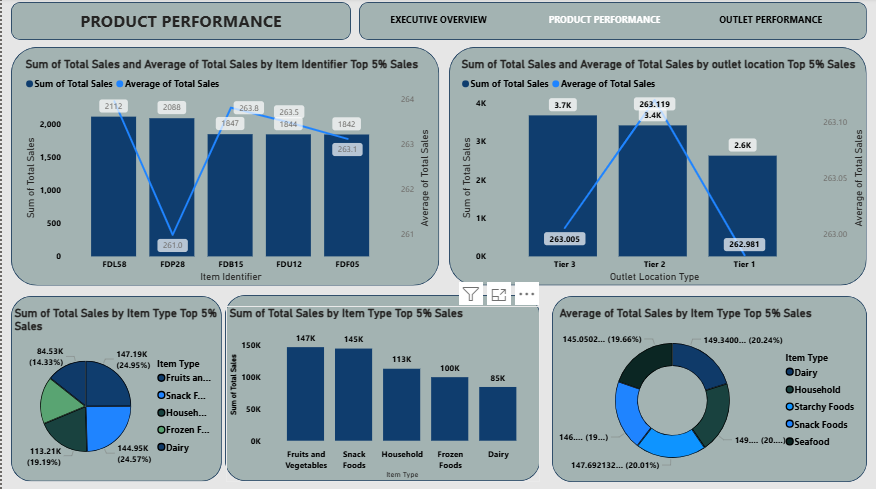

This screenshot's page, from the dashboard's own definition file:
{"tool":"powerbi","page":{"name":"PRODUCT PERFORMANCE","canvas":[1280,720],"ordinal":1},"visuals":[{"type":"shape","box":[13.2,5.9,497.6,55.6],"z":0},{"type":"shape","box":[522.4,5.9,743.4,55.6],"z":1000},{"type":"shape","box":[12.9,435.7,308.6,271.4],"z":2000},{"type":"shape","box":[326.3,434.6,461,272.2],"z":3000},{"type":"shape","box":[804.9,436.1,461,272.2],"z":4000},{"type":"shape","box":[653.9,72.1,611.3,349.1],"z":5000},{"type":"shape","box":[13.4,72.2,626.6,349.4],"z":6000},{"type":"columnChart","title":"Sum of Total Sales by Item Type Top 5% Sales","fields":{"Category":["smart_bazaar.Item Type"],"Y":["Sum(smart_bazaar.Total Sales)"]},"box":[327.1,451.4,460,257.1],"z":7000},{"type":"donutChart","title":"Average of Total Sales by Item Type Top 5% Sales","fields":{"Category":["smart_bazaar.Item Type"],"Y":["Avg(smart_bazaar.Total Sales)"]},"box":[810.7,450.7,450.7,257.6],"z":8000},{"type":"lineStackedColumnComboChart","title":"Sum of Total Sales and Average of Total Sales by outlet location Top 5% Sales","fields":{"Y":["Sum(smart_bazaar.Total Sales)"],"Y2":["Avg(smart_bazaar.Total Sales)"],"Category":["smart_bazaar.Outlet Location Type"]},"box":[667.3,86.3,598.5,335.1],"z":9000},{"type":"lineStackedColumnComboChart","title":"Sum of Total Sales and Average of Total Sales by Item Identifier Top 5% Sales","fields":{"Category":["smart_bazaar.Item Identifier"],"Y":["Sum(smart_bazaar.Total Sales)"],"Y2":["Avg(smart_bazaar.Total Sales)"]},"box":[29.3,86.3,601.5,335.1],"z":10000},{"type":"pageNavigator","box":[522.4,5.9,720,49.8],"z":11000},{"type":"pieChart","title":"Sum of Total Sales by Item Type Top 5% Sales","fields":{"Category":["smart_bazaar.Item Type"],"Y":["Sum(smart_bazaar.Total Sales)"]},"box":[12.9,451.4,308.6,255.7],"z":12000},{"type":"textbox","box":[13.2,11.7,497.6,49.8],"z":13000}]}

Visuals, with their boxes in screenshot pixels (x1, y1, x2, y2), scaled from the page's 1280x720 canvas onto the 876x489 screenshot:
shape: (9,4,350,42)
shape: (358,4,866,42)
shape: (9,296,220,480)
shape: (223,295,539,480)
shape: (551,296,866,481)
shape: (448,49,866,286)
shape: (9,49,438,286)
"Sum of Total Sales by Item Type Top 5% Sales" columnChart: (224,307,539,481)
"Average of Total Sales by Item Type Top 5% Sales" donutChart: (555,306,863,481)
"Sum of Total Sales and Average of Total Sales by outlet location Top 5% Sales" lineStackedColumnComboChart: (457,59,866,286)
"Sum of Total Sales and Average of Total Sales by Item Identifier Top 5% Sales" lineStackedColumnComboChart: (20,59,432,286)
pageNavigator: (358,4,850,38)
"Sum of Total Sales by Item Type Top 5% Sales" pieChart: (9,307,220,480)
textbox: (9,8,350,42)
